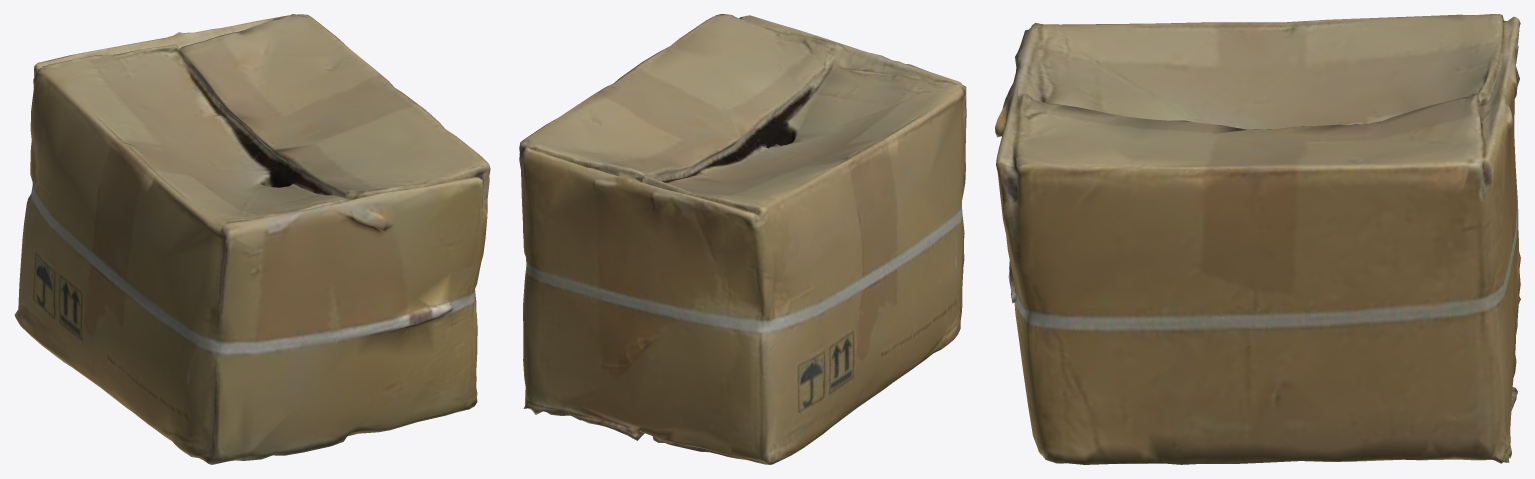
Rendered from cardboard_box_01.glb.
The picture shows the model from 3 angles, left to right: view 1: azimuth 30°, elevation 25°; view 2: azimuth 150°, elevation 25°; view 3: azimuth 270°, elevation 25°; orthographic projection. The views are drawn at different scales.
Parts seen in each view (by area): view 1: cardboard_box_01; view 2: cardboard_box_01; view 3: cardboard_box_01.
Boxes of the visible parts, x1=… form: cardboard_box_01: x1=14, y1=14, x2=490, y2=464; cardboard_box_01: x1=519, y1=14, x2=966, y2=464; cardboard_box_01: x1=995, y1=14, x2=1520, y2=464.
Bounding box in the file's own units: 0.3868 × 0.3418 × 0.5159.
Materials: 1 (1 with a texture image).
